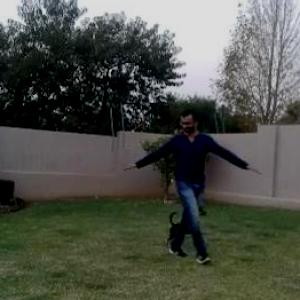land: (123, 111, 237, 246)
